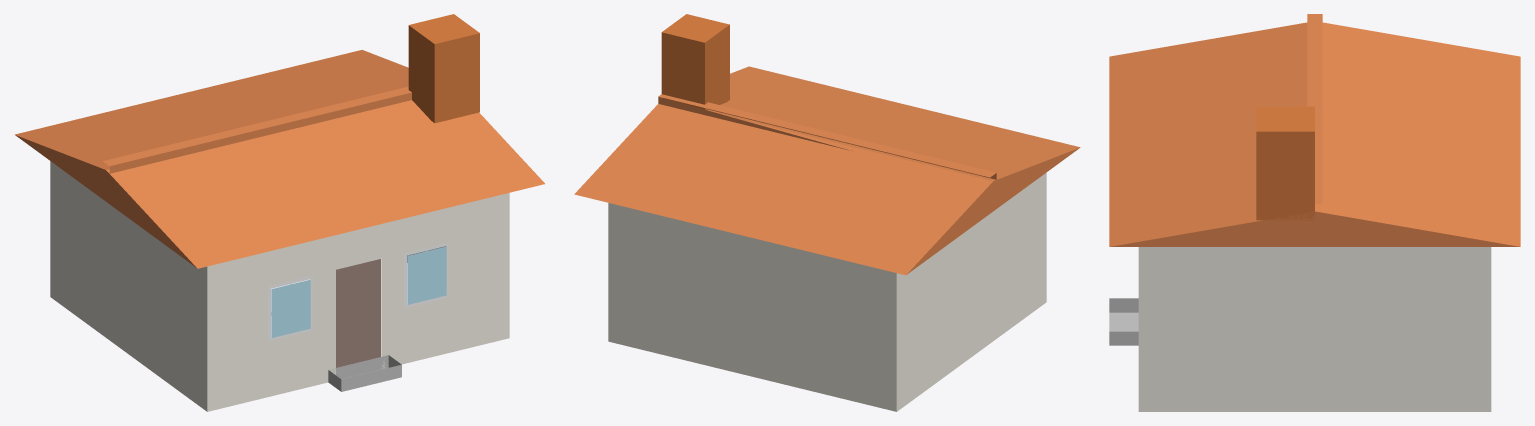
File: Building_1_1.glb
The picture shows the model from 3 angles, left to right: view 1: azimuth 30°, elevation 25°; view 2: azimuth 150°, elevation 25°; view 3: azimuth 270°, elevation 25°; orthographic projection. The views are drawn at different scales.
Visible parts, largest first — view 1: Roof, Walls, Chimney, Windows, Door, Step; view 2: Walls, Roof, Chimney; view 3: Roof, Walls, Chimney, Step.
Part boxes in pixels (x1,y1,x2,y2): Roof: [15, 50, 544, 268]; Walls: [50, 161, 509, 411]; Chimney: [408, 14, 479, 123]; Windows: [268, 242, 449, 341]; Door: [336, 259, 380, 367]; Step: [328, 355, 401, 391]; Walls: [608, 172, 1046, 411]; Roof: [574, 66, 1080, 275]; Chimney: [661, 14, 729, 109]; Roof: [1109, 14, 1520, 246]; Walls: [1138, 247, 1491, 411]; Chimney: [1256, 106, 1314, 220]; Step: [1109, 298, 1138, 345].
Bounding box in the file's own units: 2.3 × 1.65 × 2.1.
